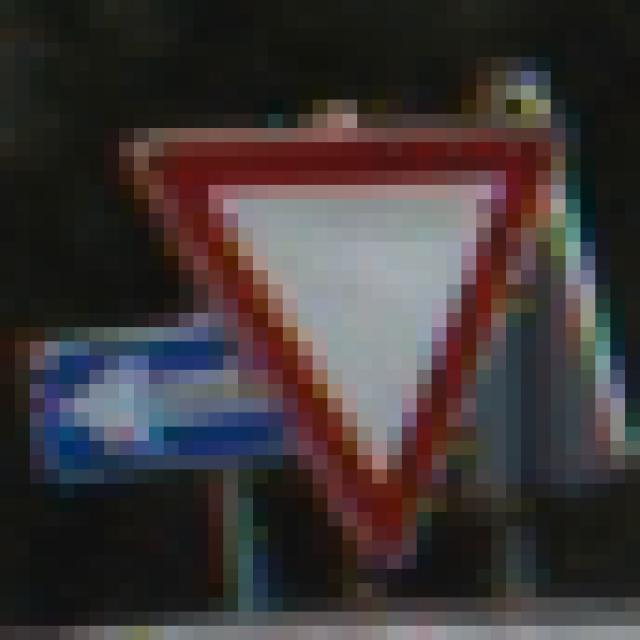Give Way: (90, 86, 567, 570)
